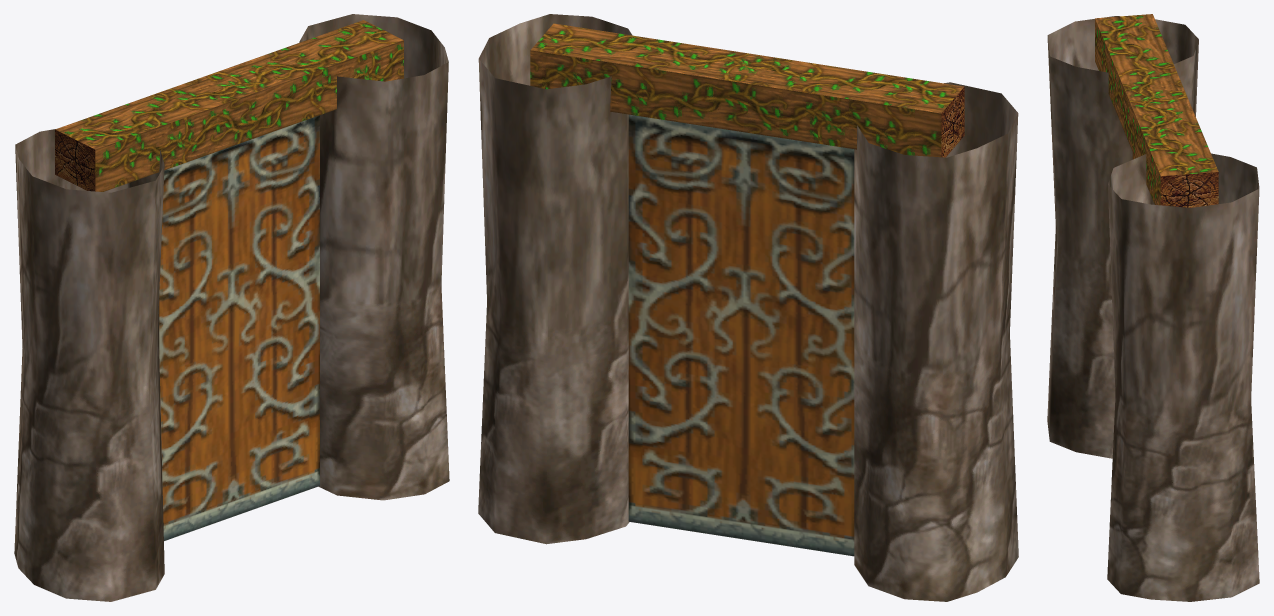
File: EKH_GROTTO_PS_GR_SPI_DOOR_3__GX.fbx
The picture shows the model from 3 angles, left to right: view 1: azimuth 30°, elevation 25°; view 2: azimuth 150°, elevation 25°; view 3: azimuth 270°, elevation 25°; orthographic projection. The views are drawn at different scales.
Parts seen in each view (by area): view 1: EKH_GROTTO_PS_GR_SPI_DOOR_3__GX; view 2: EKH_GROTTO_PS_GR_SPI_DOOR_3__GX; view 3: EKH_GROTTO_PS_GR_SPI_DOOR_3__GX.
Part boxes in pixels (x1,y1,x2,y2): EKH_GROTTO_PS_GR_SPI_DOOR_3__GX: [14, 14, 449, 601]; EKH_GROTTO_PS_GR_SPI_DOOR_3__GX: [478, 14, 1018, 601]; EKH_GROTTO_PS_GR_SPI_DOOR_3__GX: [1047, 14, 1259, 601].
Size of the model in its own units: 26667 by 25078 by 11875.
Materials: 4 (4 with a texture image).
